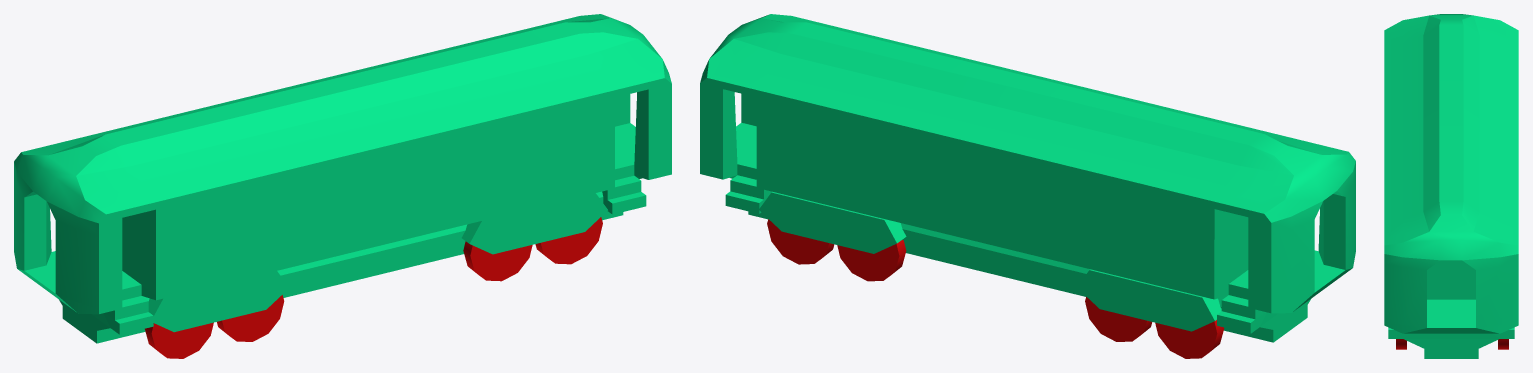
Rendered from TrainPassengerCarMesh.fbx.
3 renders of one model, left to right at view 1: azimuth 30°, elevation 25°; view 2: azimuth 150°, elevation 25°; view 3: azimuth 270°, elevation 25°, orthographic. The views are drawn at different scales.
Parts seen in each view (by area): view 1: TRAIN_PassengerCar, PassengerWheels4, PassengerWheels3, TrainWheels53, TrainWheels51, TrainWheels52, TrainWheels54; view 2: TRAIN_PassengerCar, PassengerWheels1, PassengerWheels2, TrainWheels47, TrainWheels50, TrainWheels48, TrainWheels49; view 3: TRAIN_PassengerCar.
Part boxes in pixels (box(x1,y1,x2,y2)): TRAIN_PassengerCar: box(14, 14, 671, 343); PassengerWheels4: box(461, 193, 607, 254); PassengerWheels3: box(148, 271, 289, 332); TrainWheels53: box(463, 241, 532, 281); TrainWheels51: box(145, 322, 213, 358); TrainWheels52: box(217, 295, 284, 341); TrainWheels54: box(535, 217, 602, 264); TRAIN_PassengerCar: box(700, 14, 1355, 342); PassengerWheels1: box(759, 191, 906, 253); PassengerWheels2: box(1076, 269, 1221, 331); TrainWheels47: box(837, 240, 906, 281); TrainWheels50: box(1155, 320, 1224, 358); TrainWheels48: box(767, 219, 834, 264); TrainWheels49: box(1085, 297, 1152, 341); TRAIN_PassengerCar: box(1384, 14, 1518, 358).
Size of the model in its own units: 1.13 by 0.3588 by 0.2739.
